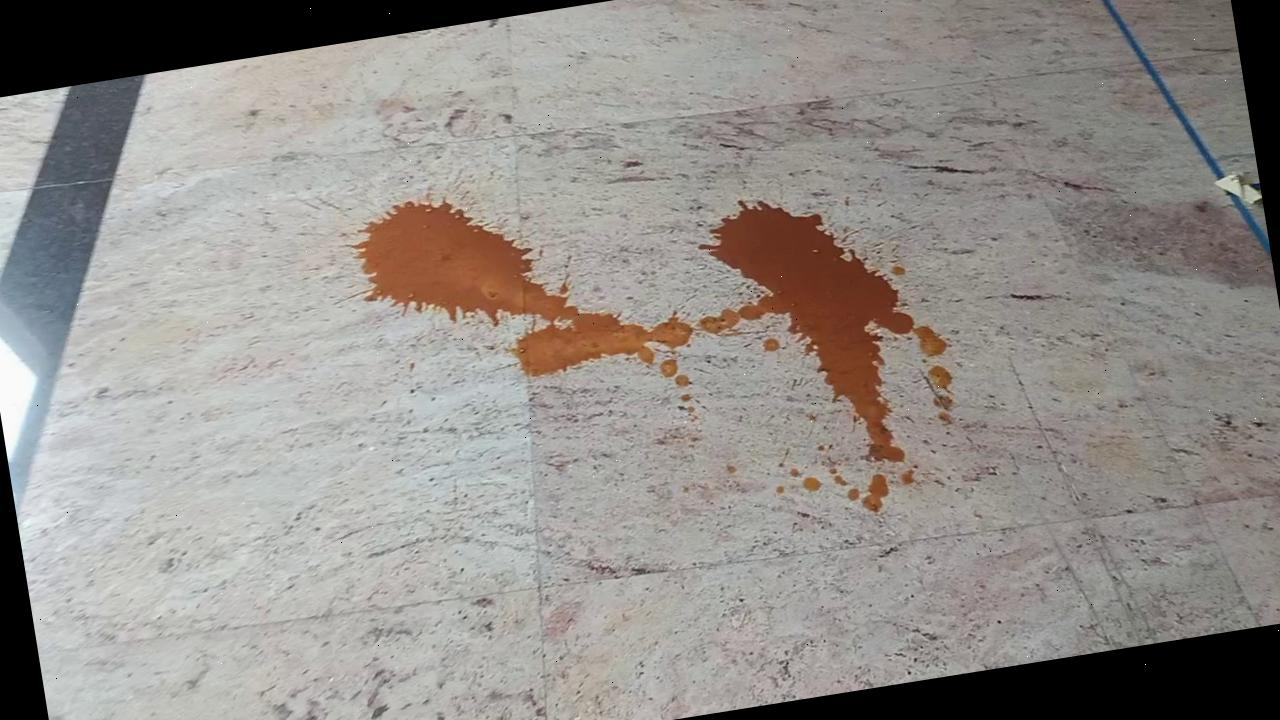dirty_floor: (353, 115, 974, 584)
